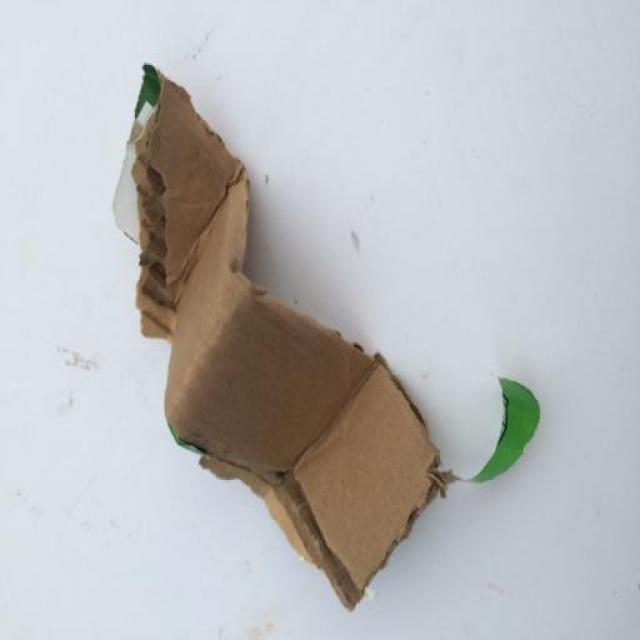cardboard: (105, 54, 542, 635)
